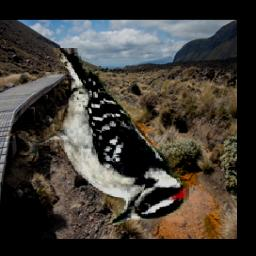Woodpecker: (5, 49, 188, 226)
